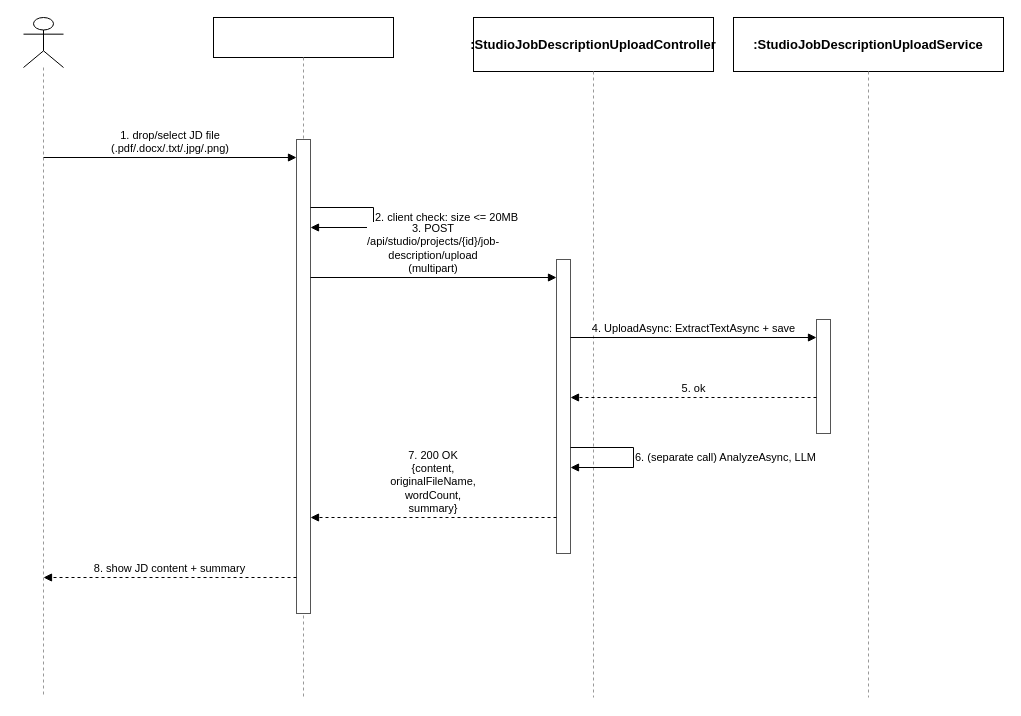
The diagram is 1021 pixels wide and 716 high, and some of its shapes have lost their labels. Each missing label, with the centre of its shape:
":SourcesPanel" belongs at pixel 303 37.
"HR Manager" belongs at pixel 43 42.
